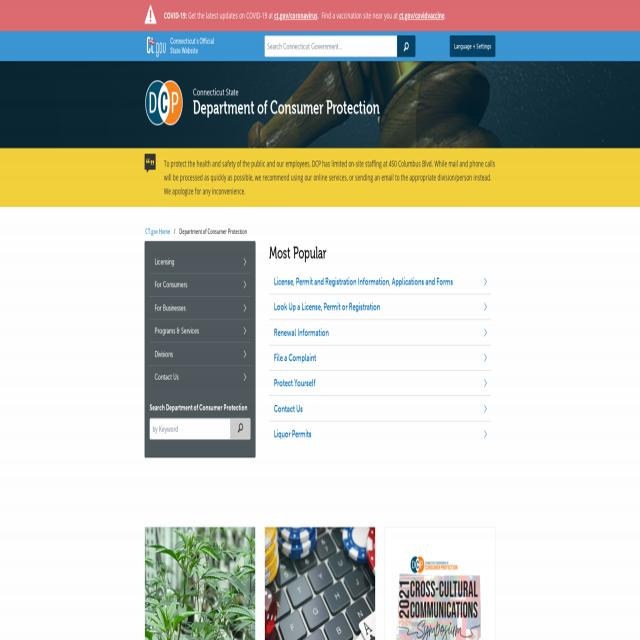button: (144, 527, 256, 640), (384, 526, 495, 640), (265, 527, 375, 640), (269, 294, 491, 320), (269, 370, 491, 396), (269, 269, 491, 294), (269, 396, 491, 421), (269, 320, 491, 344), (269, 346, 491, 370), (269, 422, 491, 446), (150, 250, 250, 273), (150, 365, 250, 388), (150, 274, 250, 296), (150, 297, 250, 319), (150, 320, 250, 342), (150, 343, 250, 365), (145, 79, 183, 126), (450, 36, 495, 57), (230, 418, 250, 440), (397, 36, 415, 57), (147, 37, 165, 57)
field: (265, 36, 397, 57), (150, 418, 230, 440)
